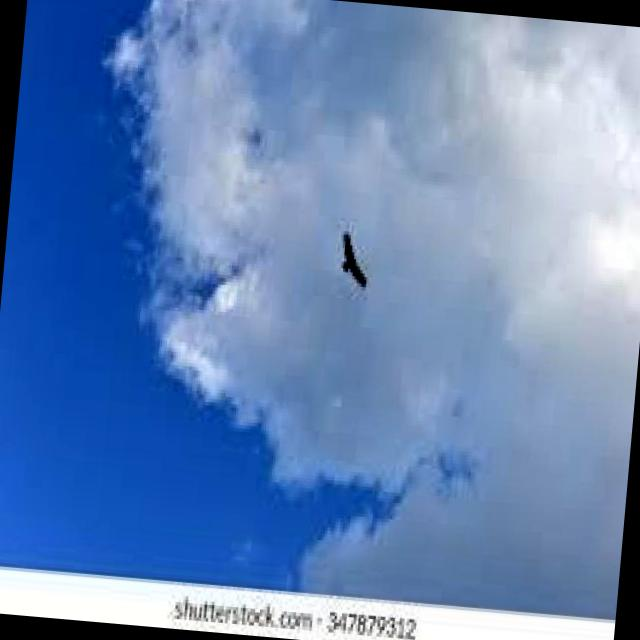bird: (332, 222, 375, 296)
